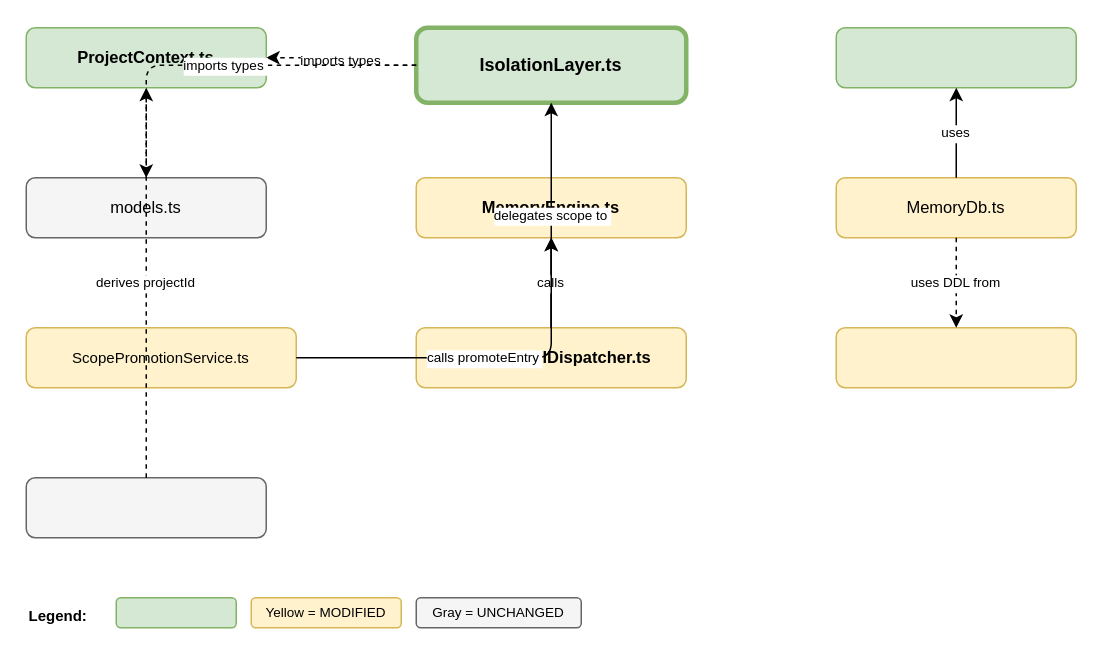
The diagram is 1103 pixels wide and 654 high, and some of its shapes have lost their labels. The centre of each missing label's shape, as x and y in pixels:
BackendConfig.ts: [145,507]
Green = NEW: [175,612]
MigrationRunner.ts: [955,57]
schema.ts: [955,357]
